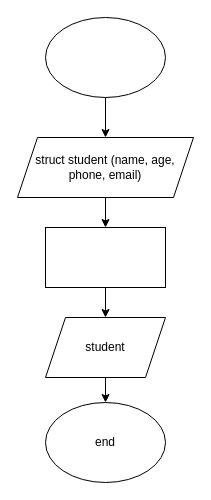
Some shapes in this 211 by 500 pixel diagram are drawn without their labels. The shapes that lost their labels are listed below. From the top down, each one's centre as x and y in pixels, then its label:
At point (105, 57): "start".
At point (105, 257): "Nhập tên, tuổi, sdt, email vào struct student".
